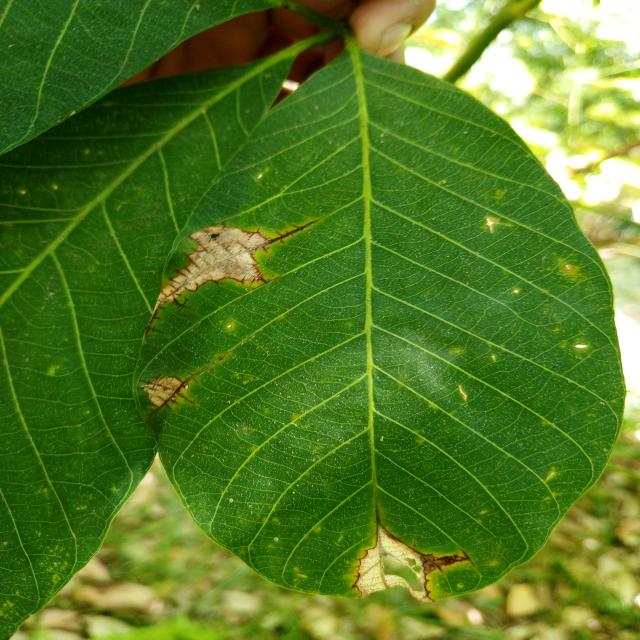Corynespora: (143, 218, 321, 336), (142, 366, 210, 420), (422, 549, 474, 576), (266, 219, 320, 245), (242, 264, 272, 290), (243, 227, 270, 242), (171, 296, 194, 310)
Leaf-Blight: (355, 524, 433, 602)
